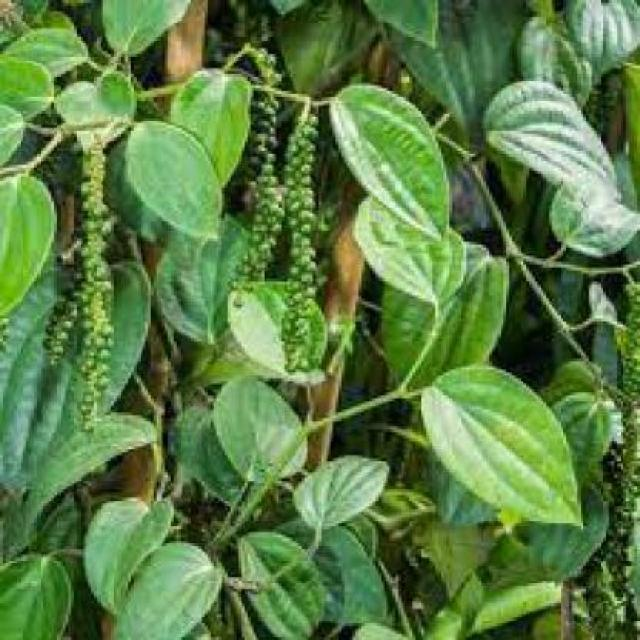UNRIPE: (57, 131, 128, 429), (231, 37, 282, 312), (279, 105, 322, 379), (609, 274, 637, 632)
